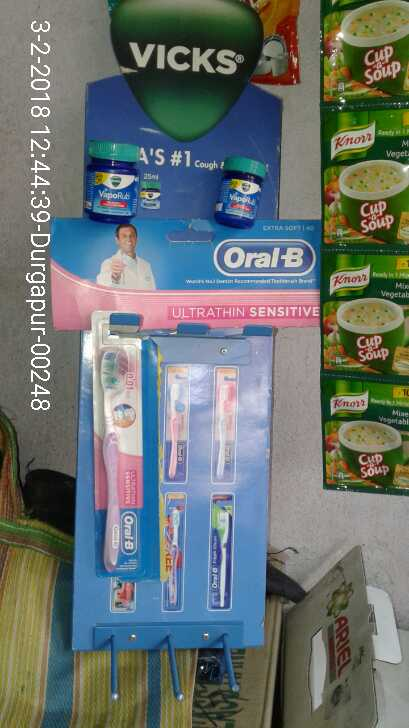pharmacy: (100, 340, 139, 572), (81, 140, 151, 221), (211, 154, 264, 227)
